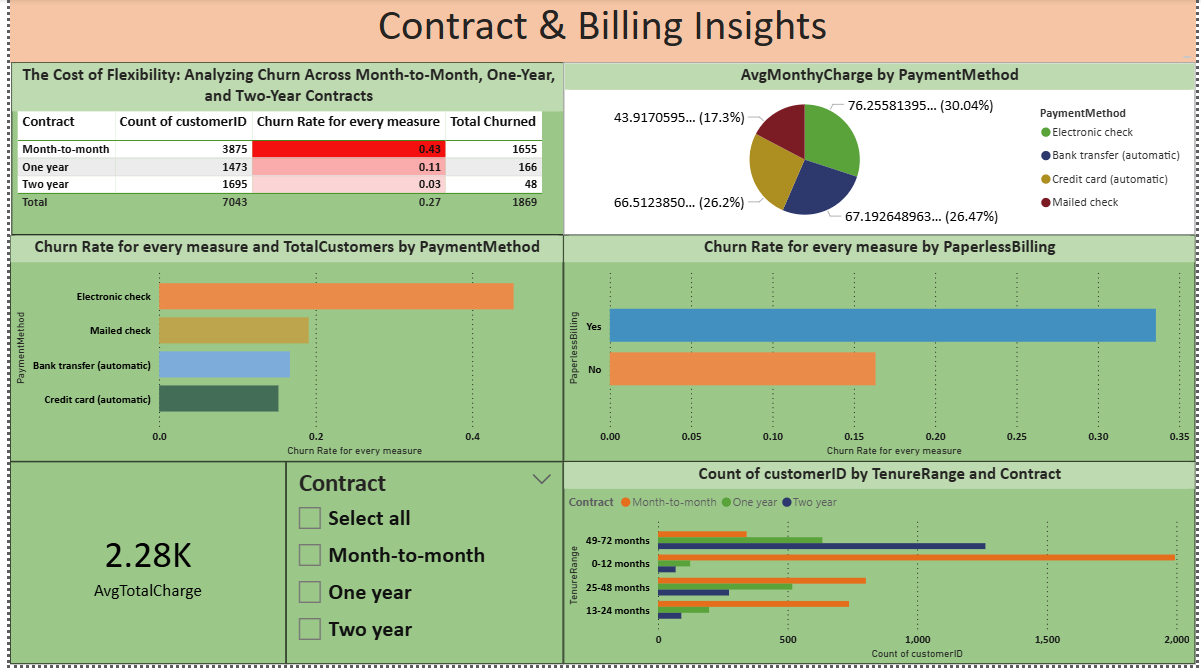

The dashboard page shown, as its layout file describes it:
{"tool":"powerbi","page":{"name":"Page 4","canvas":[1280,720],"ordinal":3},"visuals":[{"type":"textbox","title":"Contract & Billing Insights","box":[0,0,1279.4,69.9],"z":0},{"type":"tableEx","title":"The Cost of Flexibility: Analyzing Churn Across Month-to-Month, One-Year, and Two-Year Contracts","fields":{"Values":["Customer Churn Data.Contract","Customer Churn Data.customerID","Customer Churn Data.Churn Rate for contract","Customer Churn Data.Total Churned"]},"box":[1.6,69.6,597.5,186.2],"z":1000},{"type":"clusteredBarChart","fields":{"Category":["Customer Churn Data.PaymentMethod"],"Y":["Customer Churn Data.Churn Rate for every measure"]},"box":[0,255.8,597.5,244.5],"z":2000},{"type":"card","fields":{"Values":["Customer Churn Data.AvgTotalCharge"]},"box":[0,500.3,297.9,218.6],"z":3000},{"type":"slicer","fields":{"Values":["Customer Churn Data.Contract"]},"box":[297.9,500.3,299.6,218.6],"z":4000},{"type":"pieChart","fields":{"Y":["Customer Churn Data.AvgMonthyCharge"],"Category":["Customer Churn Data.PaymentMethod"]},"box":[597.5,69.6,681.7,186.2],"z":5000},{"type":"clusteredBarChart","fields":{"Category":["Customer Churn Data.PaperlessBilling"],"Y":["Customer Churn Data.Churn Rate for every measure"]},"box":[597.5,255.8,681.7,244.5],"z":6000},{"type":"clusteredBarChart","fields":{"Series":["Customer Churn Data.Contract"],"Category":["Customer Churn Data.TenureRange"],"Y":["CountNonNull(Customer Churn Data.customerID)"]},"box":[597.5,500.3,681.7,218.6],"z":7000}]}

Visuals, with their boxes in screenshot pixels (x1, y1, x2, y2), scaled from the page's 1280x720 canvas onto the 1201x671 screenshot:
"Contract & Billing Insights" textbox: bbox=[0, 0, 1200, 65]
"The Cost of Flexibility: Analyzing Churn Across Month-to-Month, One-Year, and Two-Year Contracts" tableEx: bbox=[2, 65, 562, 238]
clusteredBarChart - Customer Churn Data.PaymentMethod x Customer Churn Data.Churn Rate for every measure: bbox=[0, 238, 561, 466]
card - Customer Churn Data.AvgTotalCharge: bbox=[0, 466, 280, 670]
slicer - Customer Churn Data.Contract: bbox=[280, 466, 561, 670]
pieChart - Customer Churn Data.AvgMonthyCharge x Customer Churn Data.PaymentMethod: bbox=[561, 65, 1200, 238]
clusteredBarChart - Customer Churn Data.PaperlessBilling x Customer Churn Data.Churn Rate for every measure: bbox=[561, 238, 1200, 466]
clusteredBarChart - Customer Churn Data.Contract x Customer Churn Data.TenureRange: bbox=[561, 466, 1200, 670]
